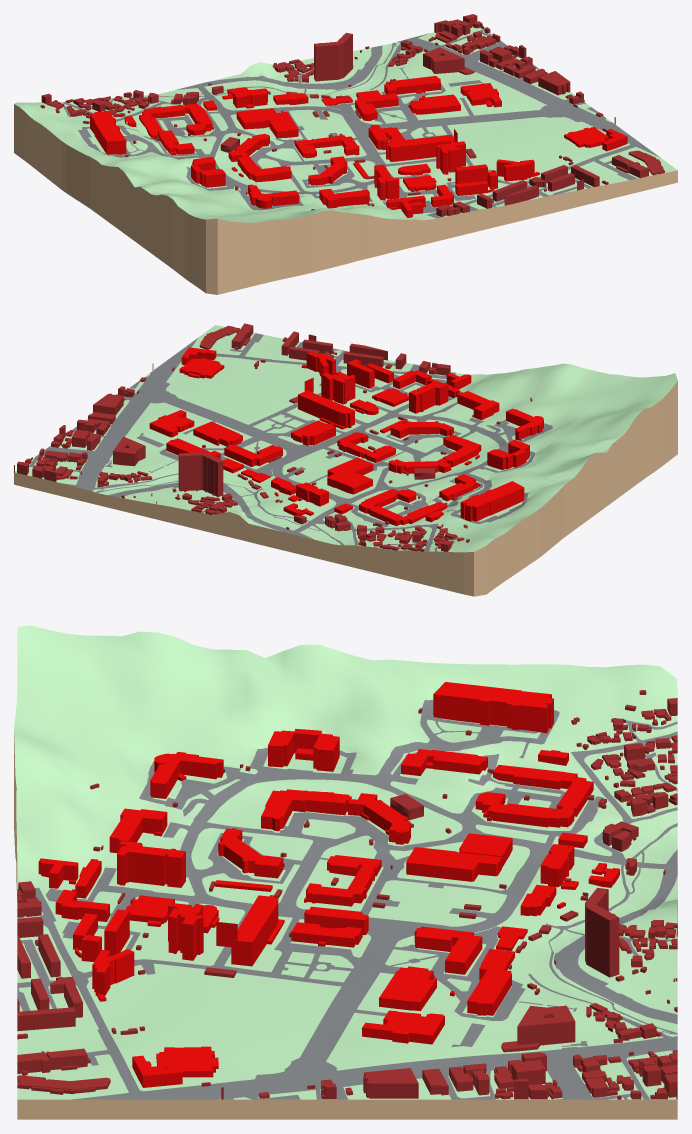
The model's file is City2.glb.
The picture shows the model from 3 angles, top to bottom: view 1: azimuth 30°, elevation 25°; view 2: azimuth 150°, elevation 25°; view 3: azimuth 270°, elevation 25°; orthographic projection. The views are drawn at different scales.
Visible parts, largest first — view 1: 학교, D2, D4, E5, E3, D3; view 2: 학교, D4, D2, E5, E3, D3; view 3: 학교, D4, D2, E5, D3, E3.
Boxes of the visible parts, x1=… form: 학교: x1=14, y1=14, x2=677, y2=294; D2: x1=139, y1=103, x2=213, y2=139; D4: x1=90, y1=111, x2=126, y2=154; E5: x1=237, y1=156, x2=291, y2=182; E3: x1=228, y1=133, x2=269, y2=161; D3: x1=158, y1=130, x2=194, y2=154; 학교: x1=14, y1=323, x2=677, y2=596; D4: x1=460, y1=481, x2=524, y2=521; D2: x1=359, y1=489, x2=447, y2=526; E5: x1=443, y1=434, x2=481, y2=467; E3: x1=388, y1=458, x2=451, y2=473; D3: x1=439, y1=474, x2=480, y2=501; 학교: x1=14, y1=625, x2=677, y2=1119; D4: x1=433, y1=682, x2=553, y2=733; D2: x1=475, y1=764, x2=593, y2=827; E5: x1=261, y1=789, x2=351, y2=831; D3: x1=401, y1=749, x2=487, y2=775; E3: x1=348, y1=793, x2=410, y2=844.
Size of the model in its own units: 187 by 29.08 by 140.
Materials: 5 (1 with a texture image).
